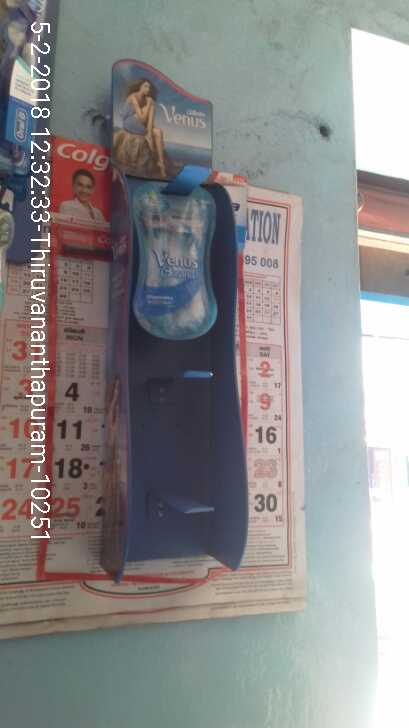venus: (140, 189, 223, 342)
